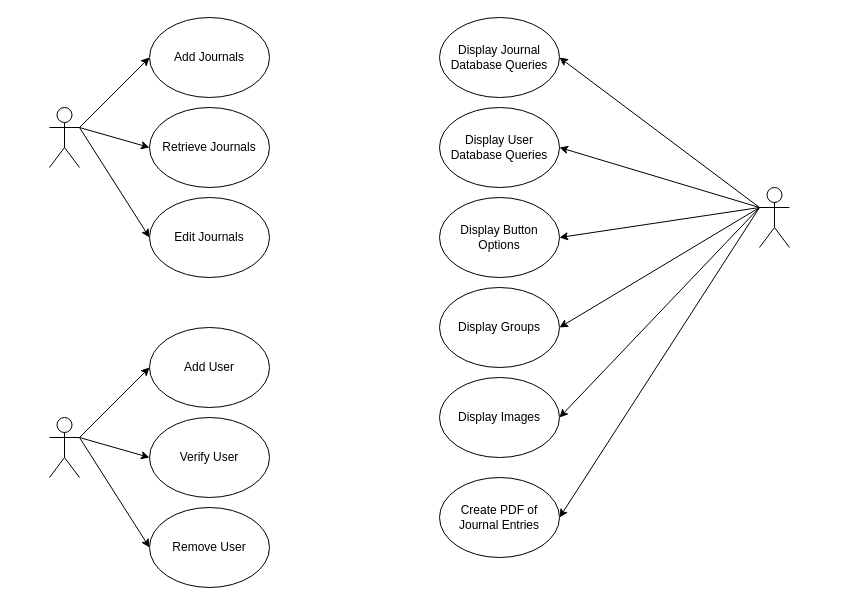
Image size: 851x605. Some labels were removed from this diagram. The centre of each missing label's shape, as x and y in pixels:
"Journal Database" belongs at point 64,137.
"User Database" belongs at point 64,447.
"User Interface System" belongs at point 774,217.
